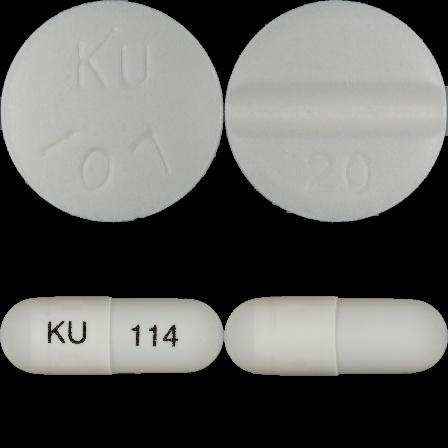62175-107: (0, 0, 224, 224)
